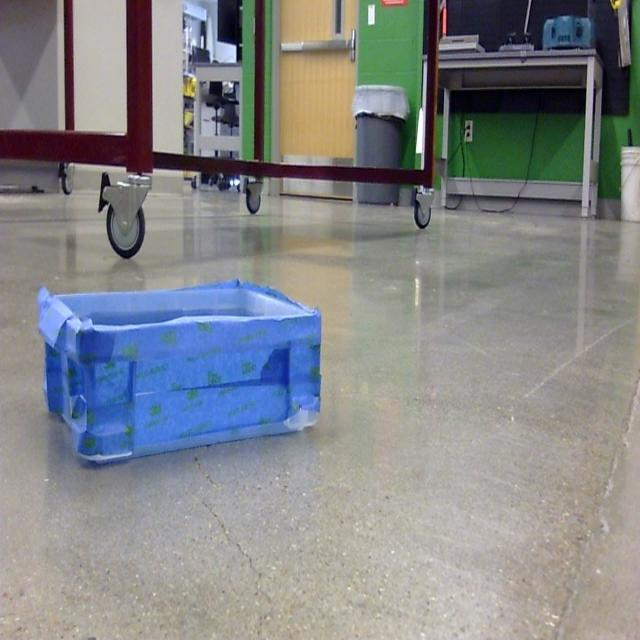bucket: (36, 281, 324, 470)
